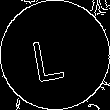L_N: (36, 27, 74, 83)
